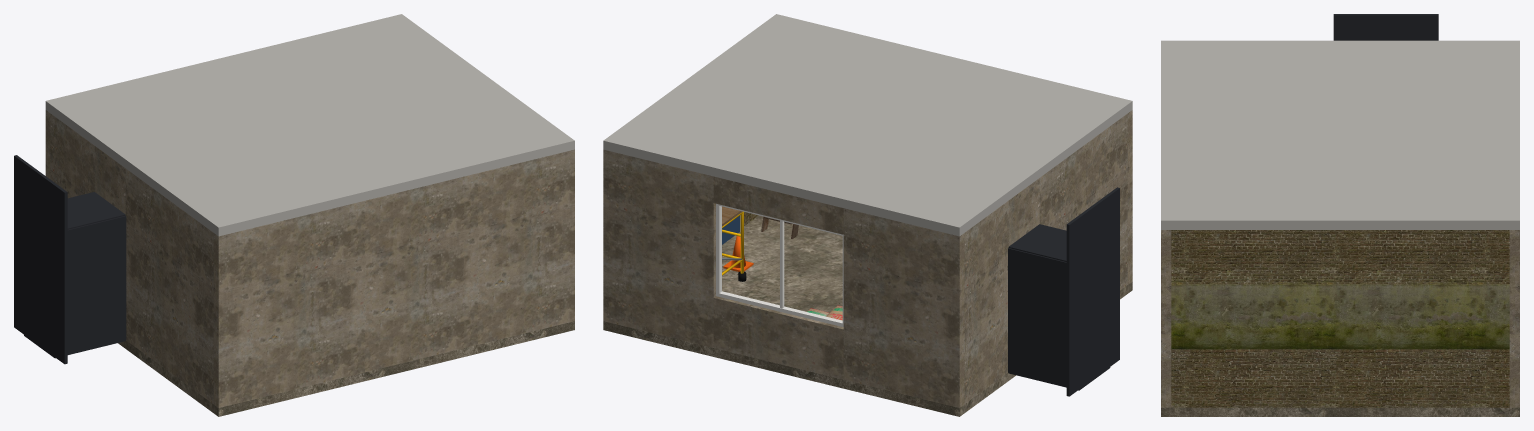
The model's file is site.glb.
3 views of the same model, side by side, from view 1: azimuth 30°, elevation 25°; view 2: azimuth 150°, elevation 25°; view 3: azimuth 270°, elevation 25° (orthographic). The views are drawn at different scales.
Visible parts, largest first — view 1: ceiling, wall_front, wall_left_a, corridor, corridor_side, floor, wall_left_b, wall_left_t, corridor_top; view 2: ceiling, wall_back_l, wall_back_r, floor, corridor, wall_left_b, corridor_side.001, wall_back_b, wall_left_a, wall_back_t, wall_left_t, corridor_top (+3 smaller); view 3: ceiling, wall_right, floor, corridor, wall_front, wall_back_r.
Boxes of the visible parts, x1,y1,x2,y2 form: ceiling: [45, 14, 574, 236]; wall_front: [213, 149, 574, 407]; wall_left_a: [125, 169, 213, 403]; corridor: [14, 155, 67, 364]; corridor_side: [55, 215, 126, 356]; floor: [118, 321, 574, 416]; wall_left_b: [50, 113, 94, 198]; wall_left_t: [94, 146, 125, 214]; corridor_top: [25, 192, 125, 232]; ceiling: [603, 14, 1132, 236]; wall_back_l: [843, 208, 964, 407]; wall_back_r: [603, 149, 715, 347]; floor: [603, 215, 1132, 416]; corridor: [1066, 187, 1119, 396]; wall_left_b: [964, 201, 1008, 403]; corridor_side.001: [1008, 248, 1079, 386]; wall_back_b: [713, 296, 843, 379]; wall_left_a: [1039, 114, 1127, 290]; wall_back_t: [713, 176, 843, 234]; wall_left_t: [1008, 178, 1039, 246]; corridor_top: [1008, 224, 1091, 264]; ceiling: [1161, 40, 1519, 229]; wall_right: [1171, 230, 1509, 407]; floor: [1161, 407, 1519, 416]; corridor: [1333, 14, 1438, 40]; wall_front: [1161, 230, 1171, 407]; wall_back_r: [1509, 230, 1519, 407].
Size of the model in its own units: 7.55 by 3.2 by 5.3.
25 materials, 11 textured.
